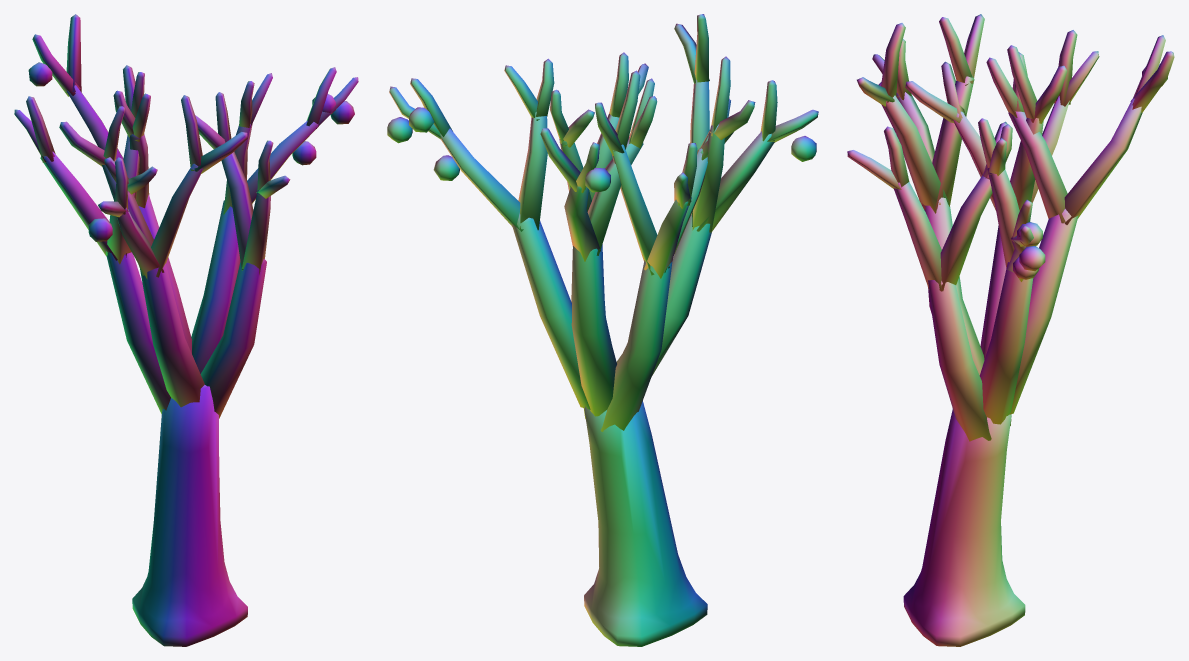
File: SM_Foliage_March_CharredOrchard_B_LOD1.fbx
3 renders of one model, left to right at view 1: azimuth 30°, elevation 25°; view 2: azimuth 150°, elevation 25°; view 3: azimuth 270°, elevation 25°, orthographic. The views are drawn at different scales.
Visible parts, largest first — view 1: SM_Foliage_March_CharredOrchard_B_LOD1; view 2: SM_Foliage_March_CharredOrchard_B_LOD1; view 3: SM_Foliage_March_CharredOrchard_B_LOD1.
Boxes of the visible parts, box(x1,y1,x2,y2) form: SM_Foliage_March_CharredOrchard_B_LOD1: box(14, 14, 358, 646); SM_Foliage_March_CharredOrchard_B_LOD1: box(387, 14, 818, 646); SM_Foliage_March_CharredOrchard_B_LOD1: box(847, 14, 1174, 646).
Size of the model in its own units: 1.84 by 2.91 by 1.48.
